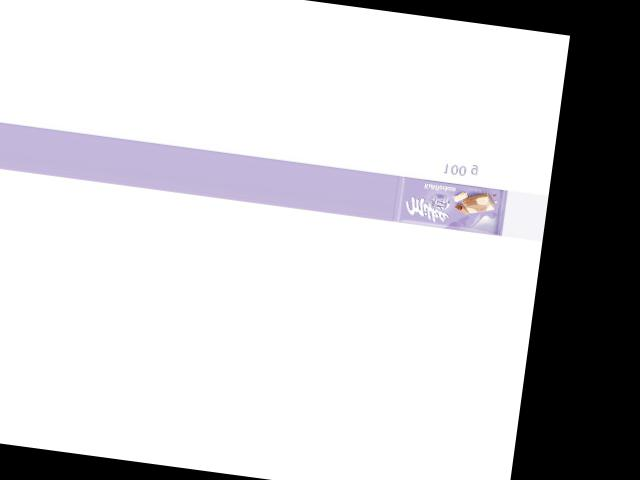chocolate: (392, 168, 510, 237)
